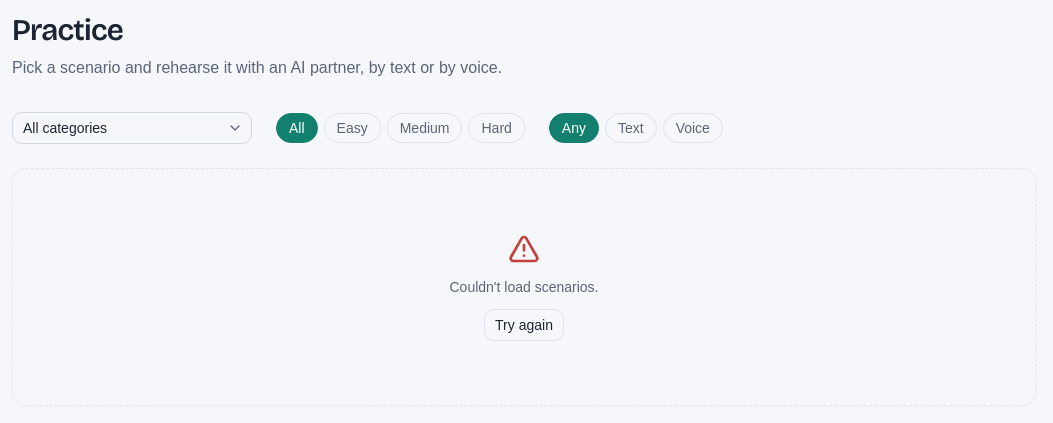
Test: PracticePage › shows an error state with a retry button on failure
Click the button "Try again" at (524, 325), box [484,309,564,341]
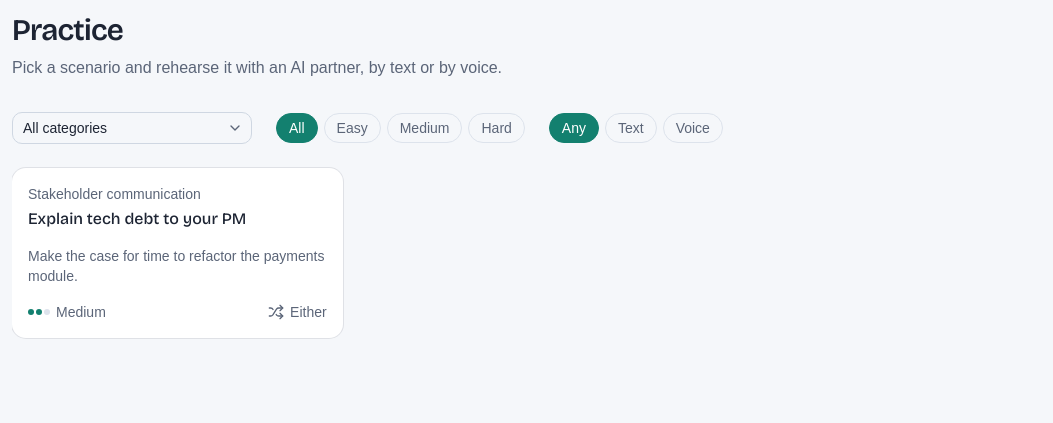
expect the text "Explain tech debt to your PM" is shown: met, box [28,209,246,228]
